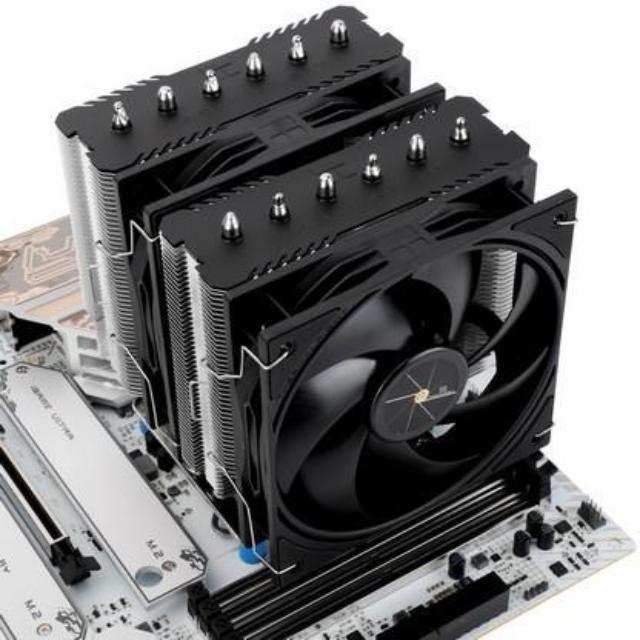CPU_Fan: (58, 6, 556, 534)
